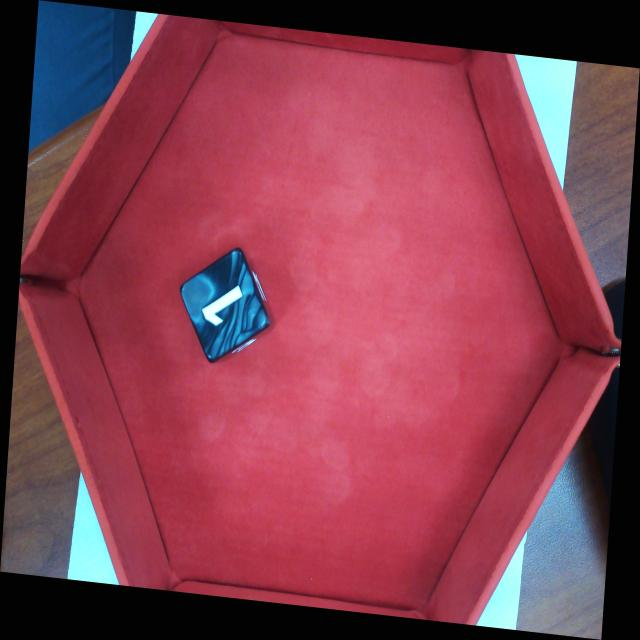dice: (180, 248, 271, 363)
